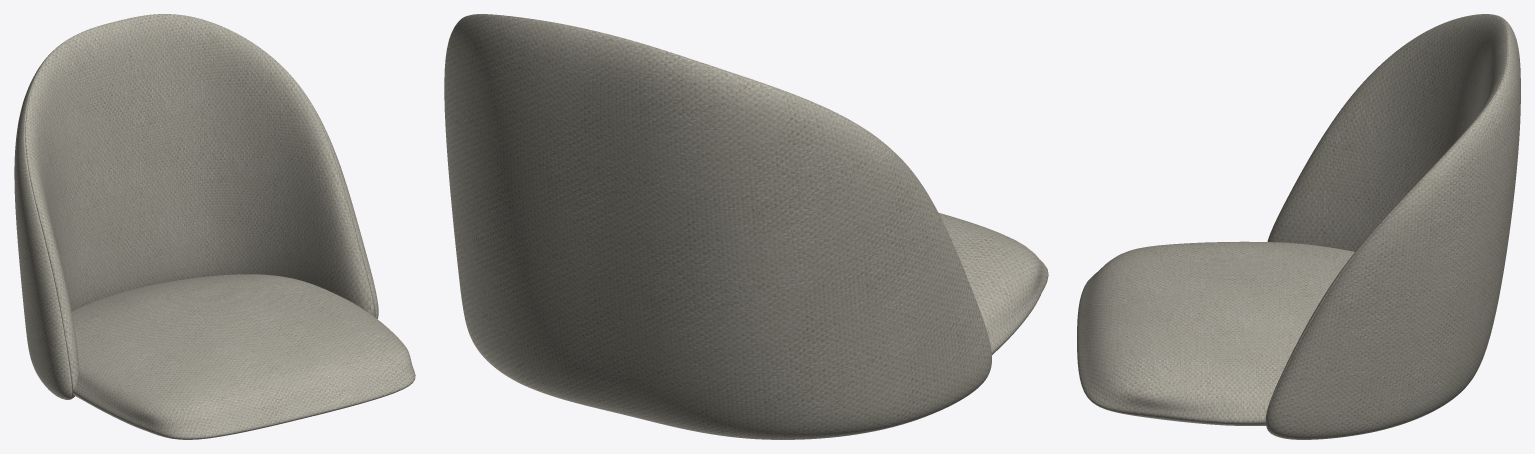
File: Soul drewno.glb
The picture shows the model from 3 angles, left to right: view 1: azimuth 30°, elevation 25°; view 2: azimuth 150°, elevation 25°; view 3: azimuth 270°, elevation 25°; orthographic projection. The views are drawn at different scales.
Visible parts, largest first — view 1: backseat; view 2: backseat; view 3: backseat.
Boxes of the visible parts, box(x1,y1,x2,y2) form: backseat: box(14, 14, 415, 439); backseat: box(444, 14, 1048, 439); backseat: box(1077, 14, 1520, 439).
Size of the model in its own units: 0.4997 by 0.4049 by 0.5217.
Materials: 1 (1 with a texture image).
